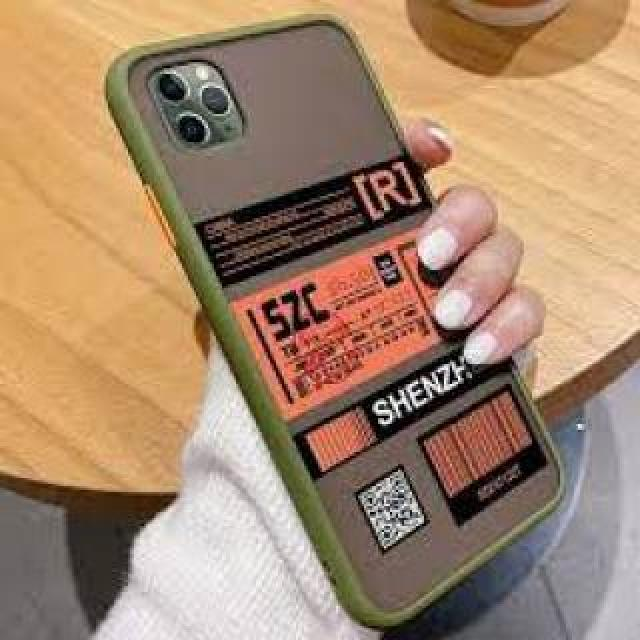smart phone: (85, 10, 548, 612)
